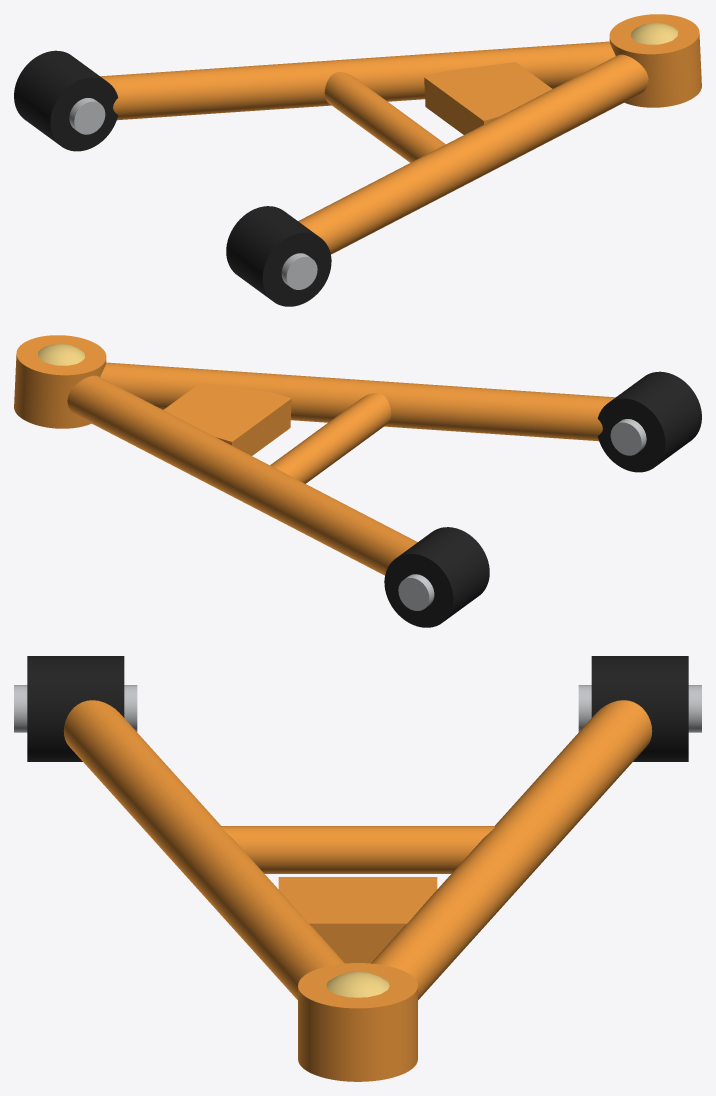
File: lower_arm.glb
3 views of the same model, one above another, from view 1: azimuth 30°, elevation 25°; view 2: azimuth 150°, elevation 25°; view 3: azimuth 270°, elevation 25° (orthographic). The views are drawn at different scales.
Parts seen in each view (by area): view 1: lower_0, bush_1, steel_2, ball_3; view 2: lower_0, bush_1, steel_2, ball_3; view 3: lower_0, bush_1, steel_2, ball_3.
Part boxes in pixels (left/top/right/bottom): lower_0: left=100, top=14, right=701, bottom=254; bush_1: left=14, top=50, right=331, bottom=306; steel_2: left=69, top=98, right=317, bottom=289; ball_3: left=631, top=22, right=677, bottom=44; lower_0: left=14, top=335, right=615, bottom=575; bush_1: left=384, top=371, right=701, bottom=627; steel_2: left=398, top=419, right=646, bottom=610; ball_3: left=38, top=343, right=84, bottom=365; lower_0: left=63, top=700, right=652, bottom=1081; bush_1: left=27, top=656, right=688, bottom=761; steel_2: left=14, top=685, right=701, bottom=732; ball_3: left=326, top=971, right=389, bottom=997.
Size of the model in its own units: 0.4855 by 0.0599 by 0.39.
